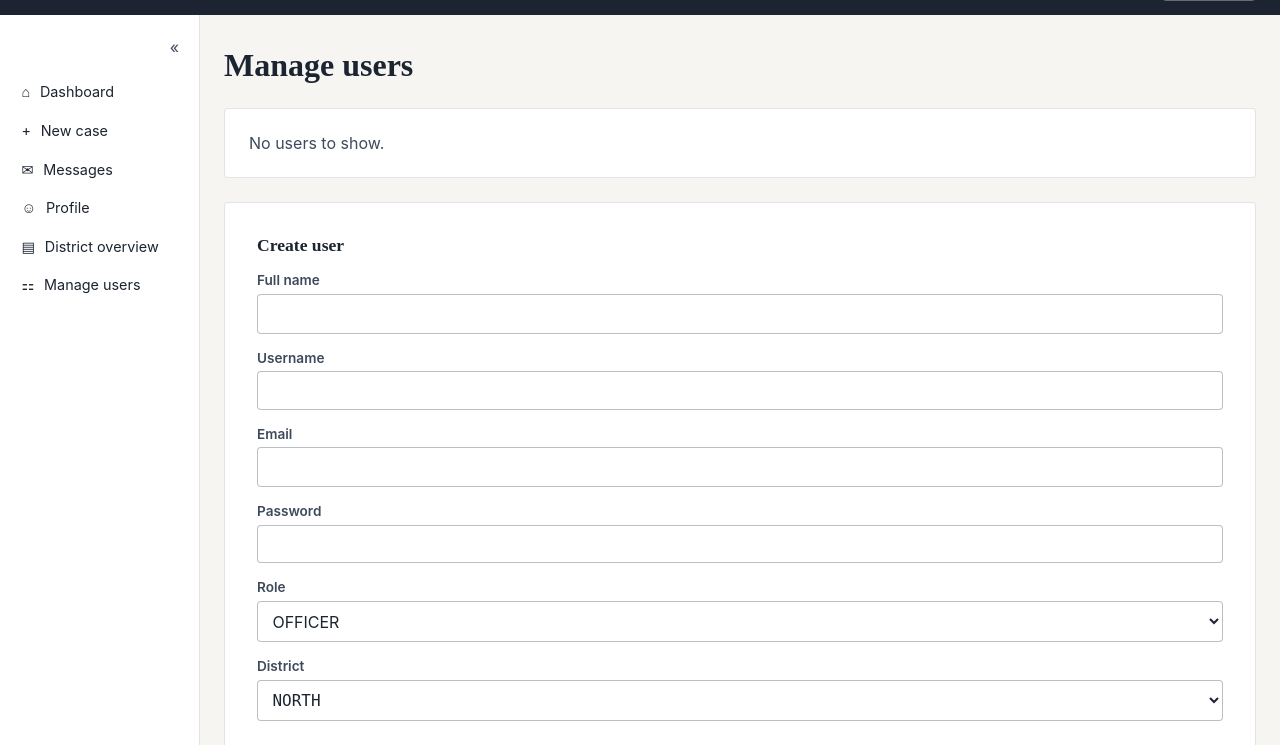
Test: ManageUsersPage › shows an error when creation fails
The width and height of the screenshot is (1280, 745).
Expected: the text "No users to show." is shown, left=249, top=133, right=384, bottom=153
In the field labelled "Full name": (740, 314) left=257, top=294, right=1223, bottom=334, type "Dup"
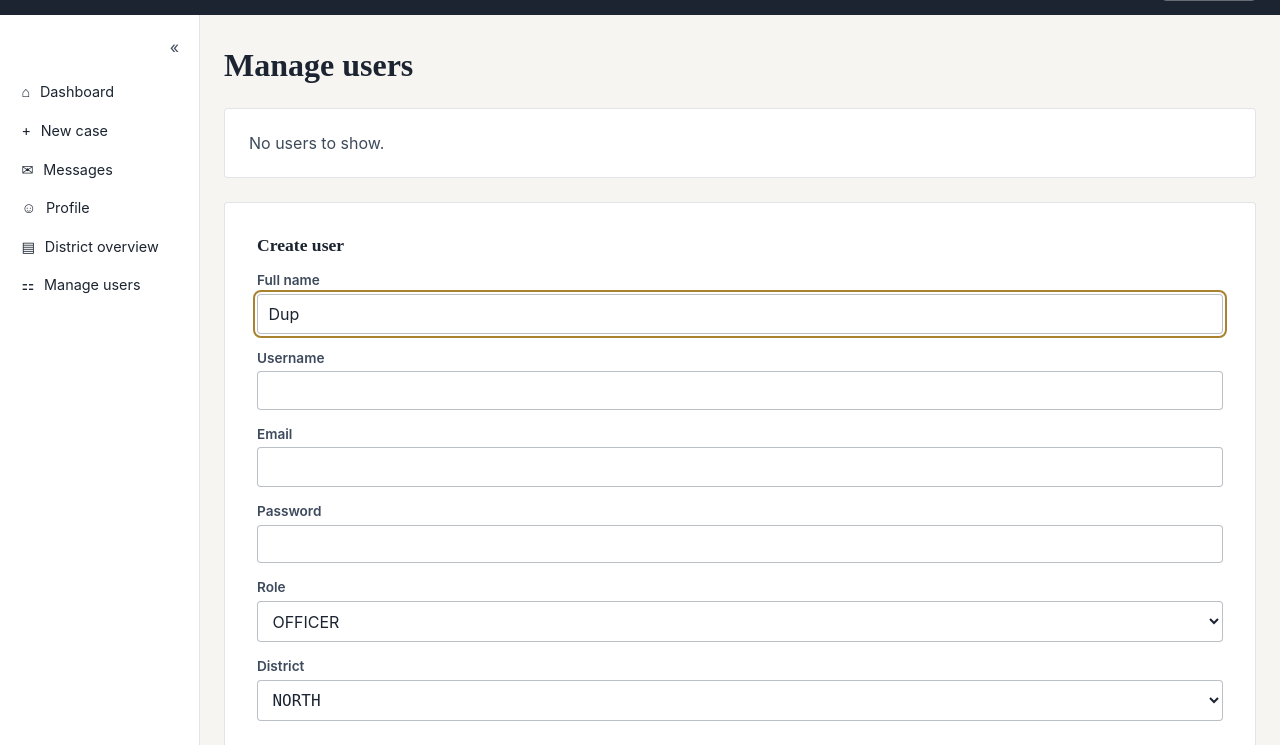
In the field labelled "Username": (740, 390) left=257, top=371, right=1223, bottom=410, type "chief"
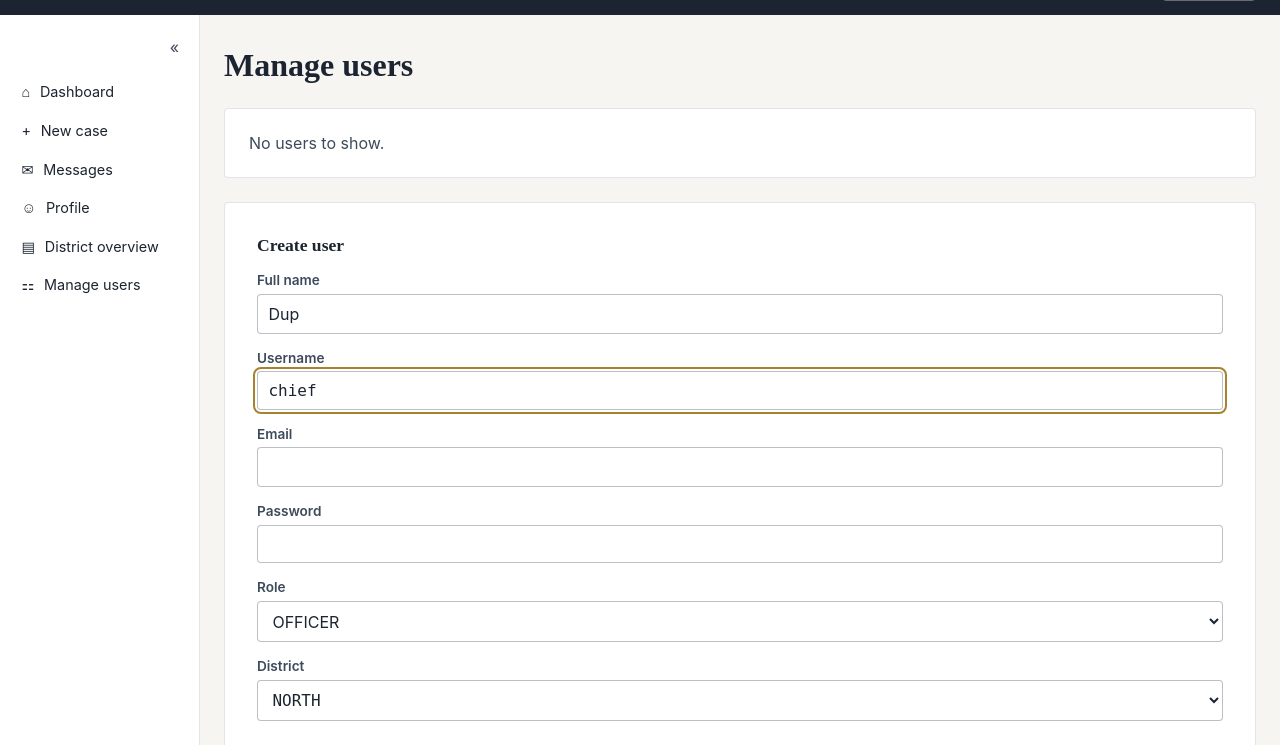
In the field labelled "Email": (740, 467) left=257, top=447, right=1223, bottom=487, type "dup@example.test"
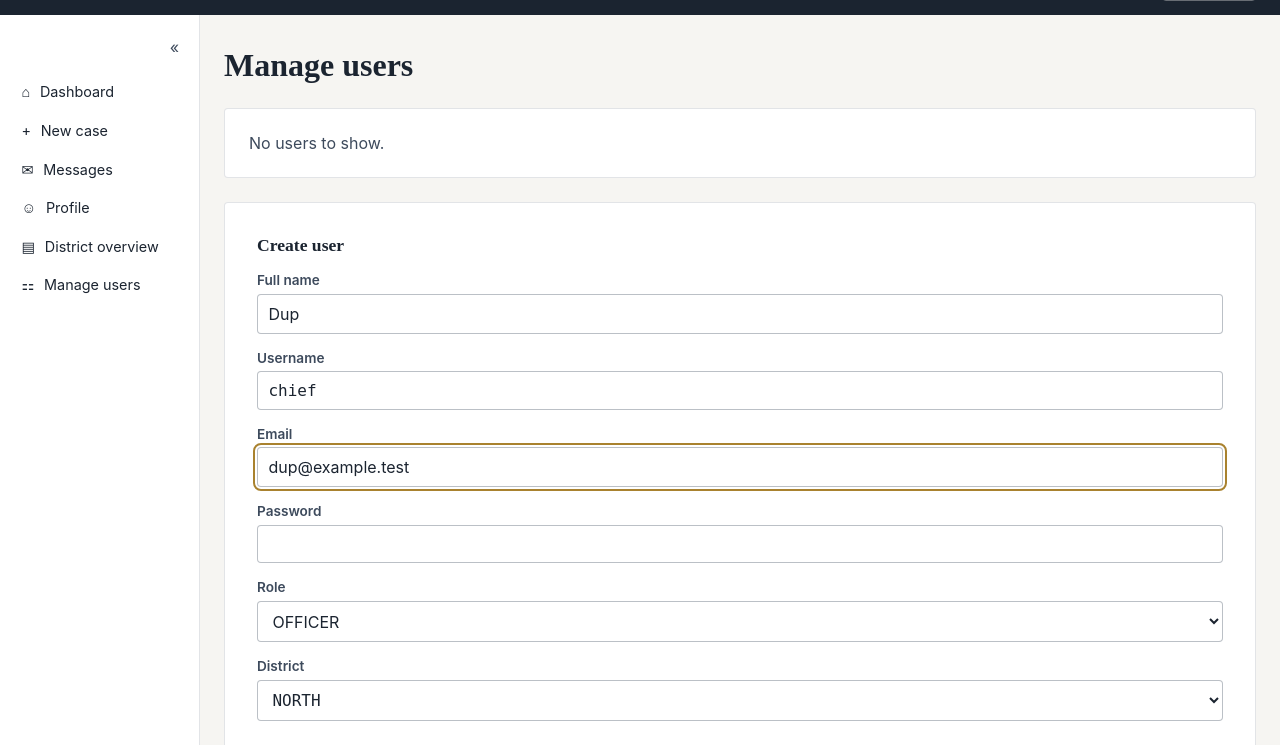
In the password field labelled "Password": (740, 544) left=257, top=524, right=1223, bottom=563, type "a brand new password"
(page scrolled)
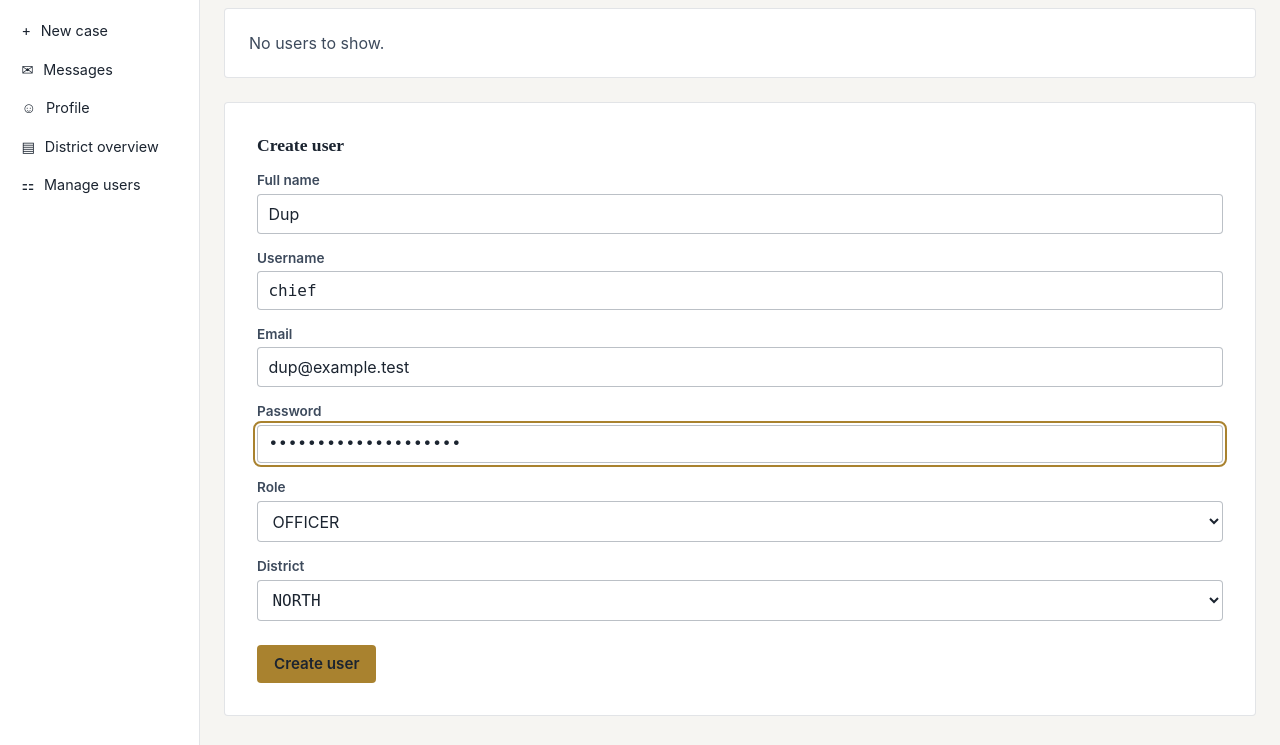
Click the button "Create user": (317, 664) left=257, top=644, right=376, bottom=683
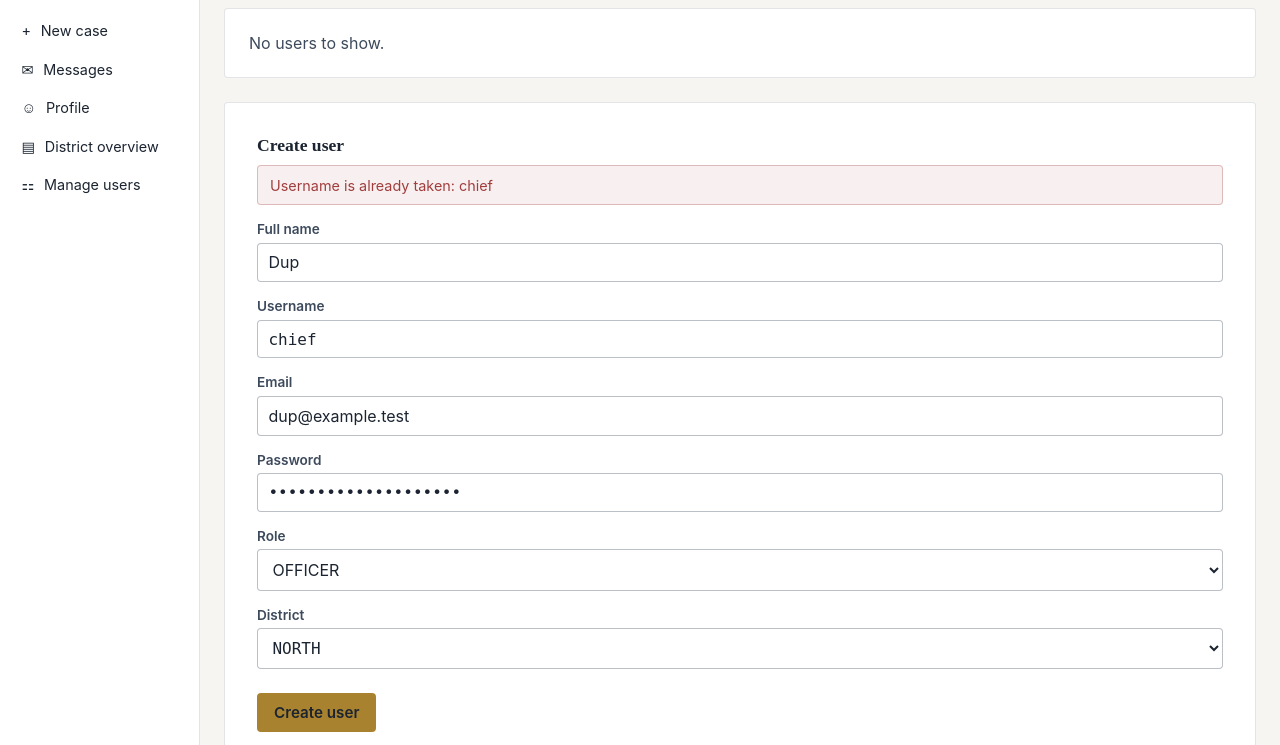
Expected: the text "Username is already taken: chief" is shown, left=257, top=165, right=1223, bottom=205
